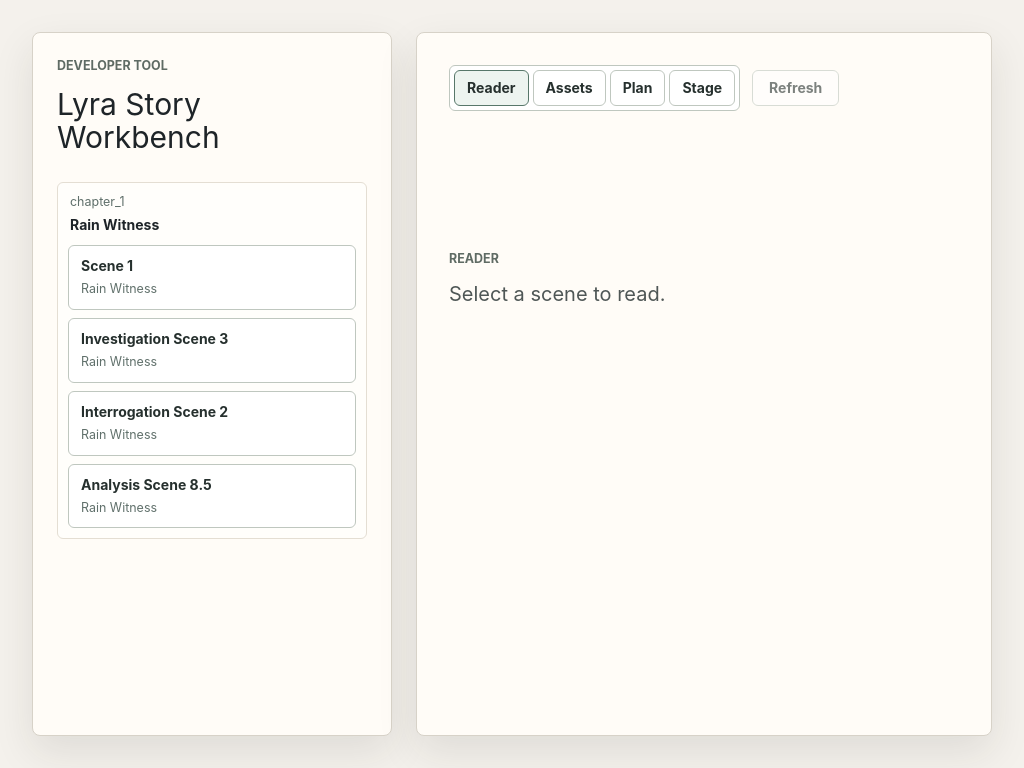
Lyra Story Workbench shell › selecting a scene under Assets changes the selection without Reader or Stage loading
The width and height of the screenshot is (1024, 768).
Click the button "Assets" at (569, 88), box [532,70,606,106]
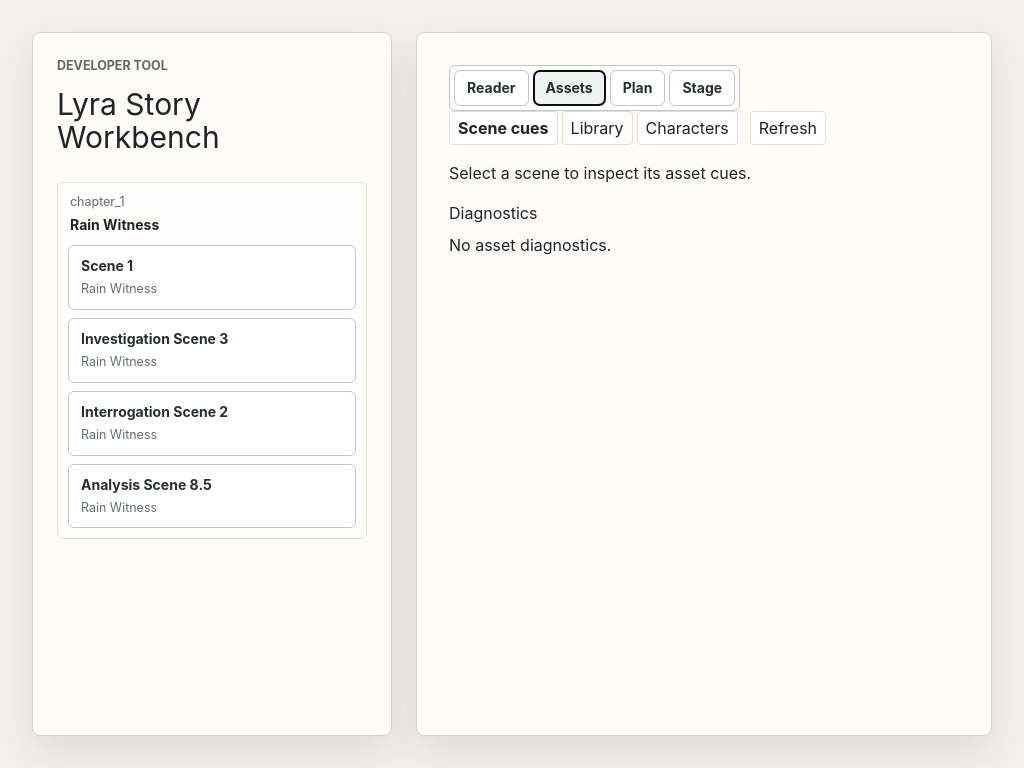
Now the element named "Assets" is shown, box [449,111,826,255]
Click the button "Investigation Scene 3 Rain Witness" at (155, 339), box [68,318,356,383]
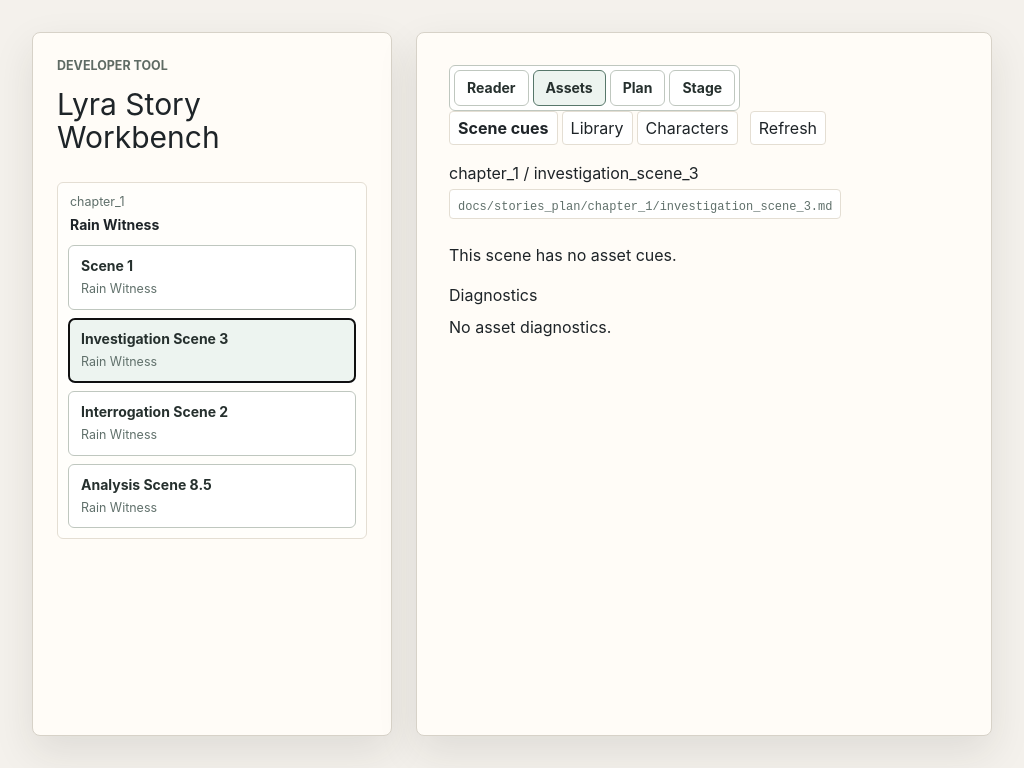
Now the heading "chapter_1 / investigation_scene_3" is shown, box [449,163,699,183]
